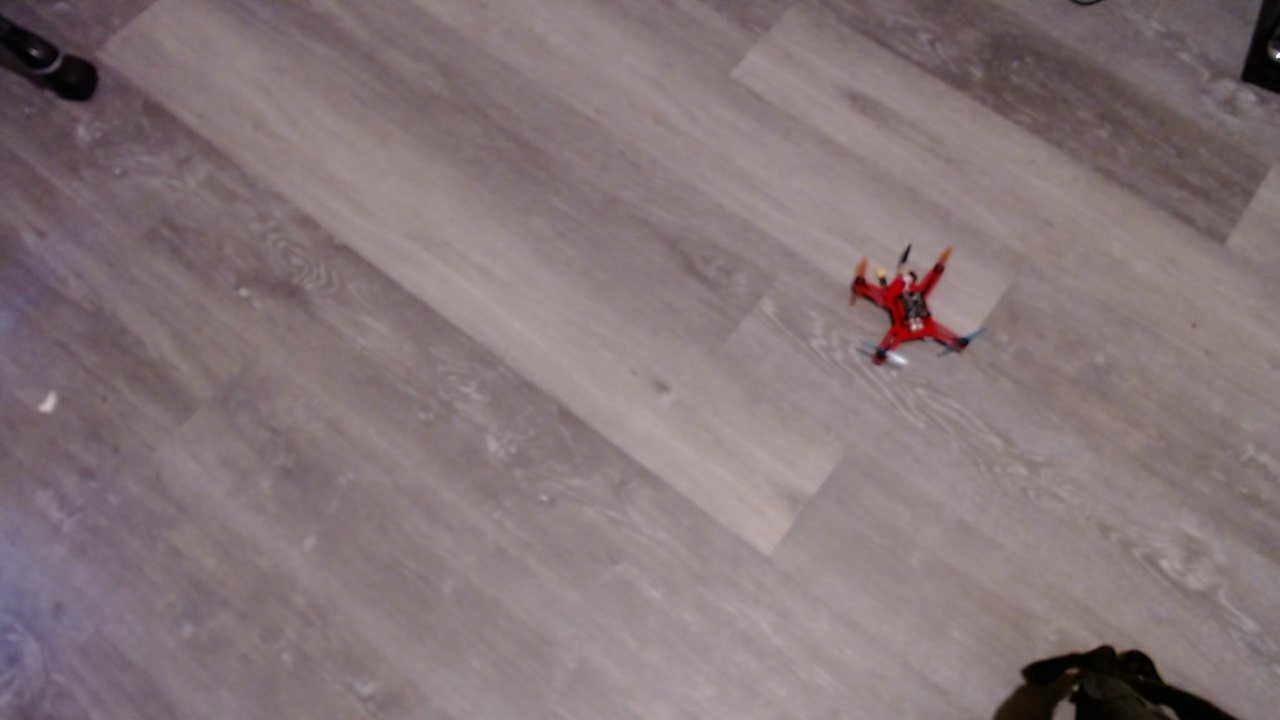crazyflie: (831, 239, 1001, 393)
